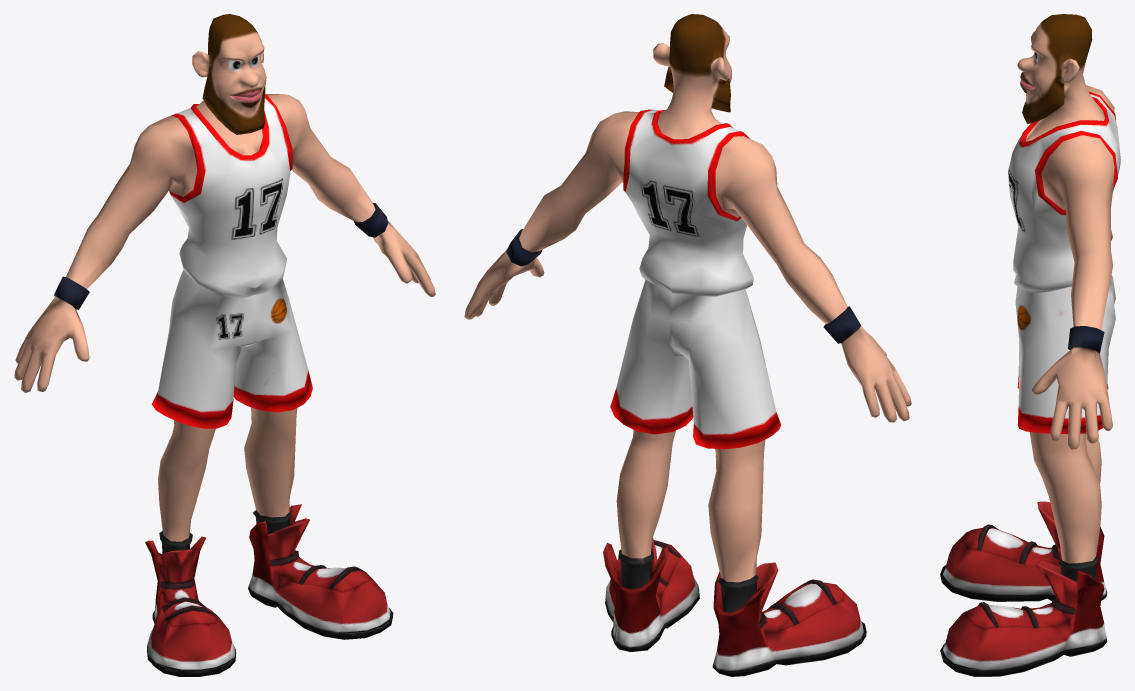
Rendered from Player 17 red.fbx.
The picture shows the model from 3 angles, left to right: view 1: azimuth 30°, elevation 25°; view 2: azimuth 150°, elevation 25°; view 3: azimuth 270°, elevation 25°; orthographic projection. The views are drawn at different scales.
Visible parts, largest first — view 1: red 23; view 2: red 23; view 3: red 23.
Part boxes in pixels (<box>): red 23: <box>14,14,435,676</box>; red 23: <box>464,14,911,676</box>; red 23: <box>940,14,1120,676</box>.
Bounding box in the file's own units: 136 × 188 × 50.96.
Materials: 1 (1 with a texture image).
